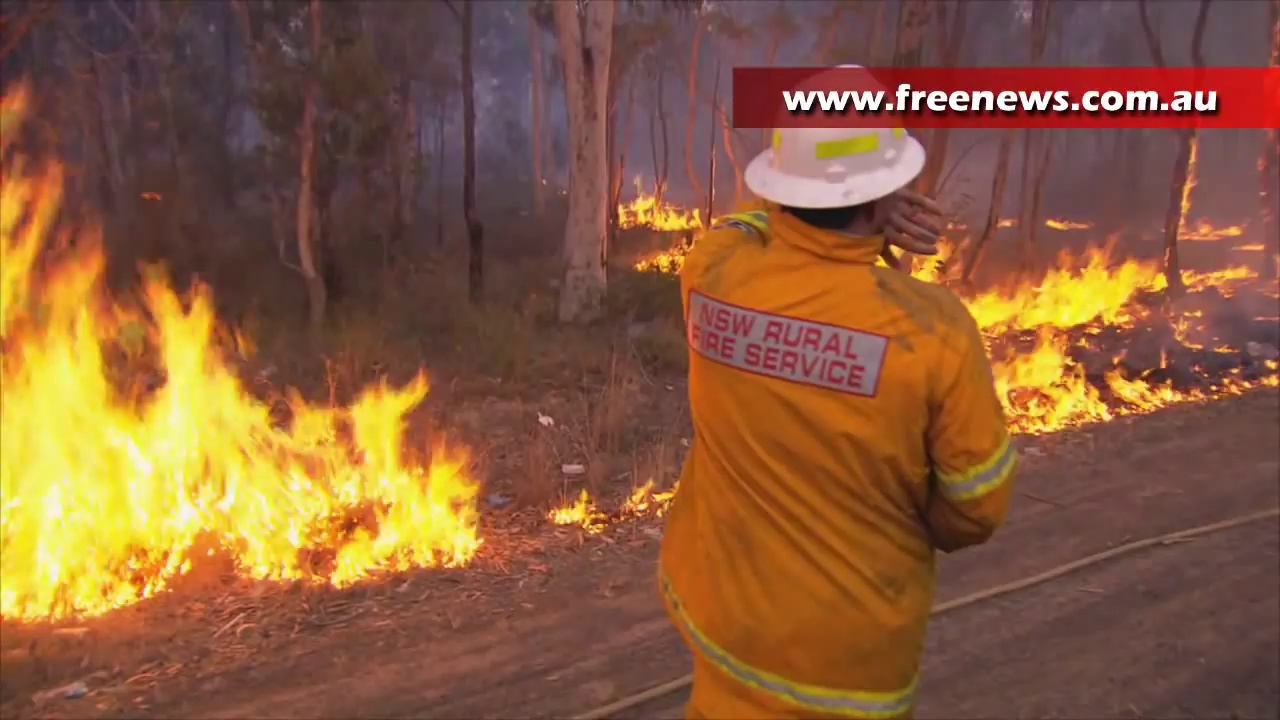fire: (1, 191, 483, 604), (985, 221, 1280, 432), (618, 194, 701, 231), (551, 490, 602, 531), (626, 477, 674, 517), (915, 231, 954, 279)
